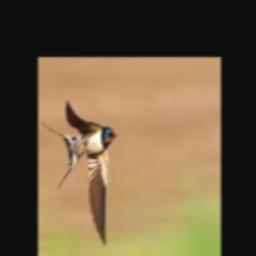Swallow: (42, 100, 117, 246)
